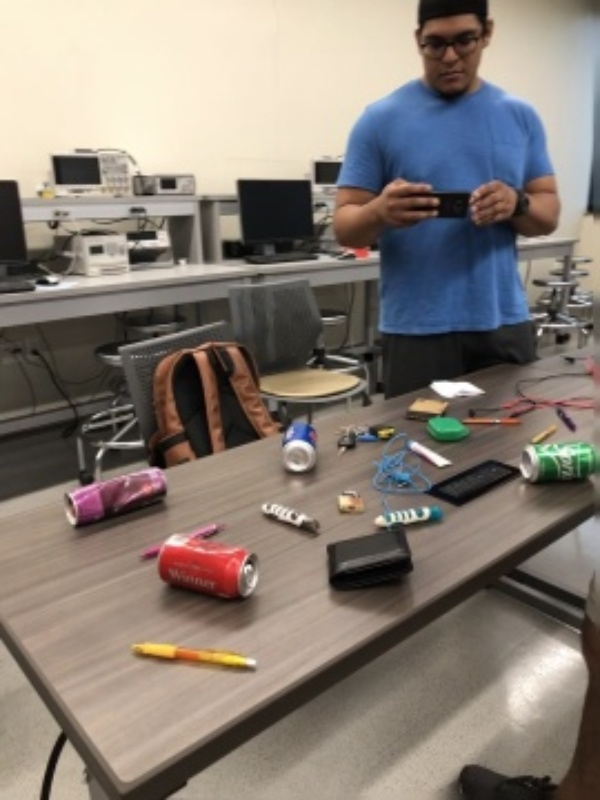can: (151, 532, 261, 602), (60, 466, 169, 531), (521, 435, 598, 488), (277, 419, 324, 475)
